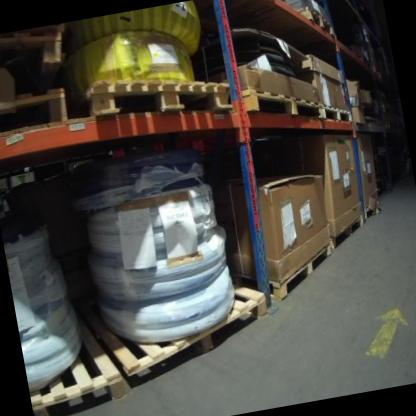pallet: (75, 254, 276, 394), (78, 61, 234, 137), (18, 312, 127, 416), (228, 242, 339, 310), (237, 75, 323, 133), (0, 23, 76, 82), (0, 87, 73, 140), (294, 2, 335, 42), (325, 215, 367, 252), (318, 96, 353, 126)
